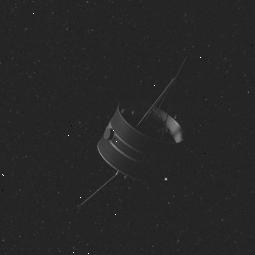double_start: (93, 77, 188, 191)
